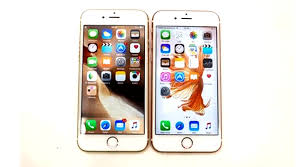iphone: (74, 5, 152, 156), (148, 6, 222, 156)
iphone6: (71, 5, 155, 155), (150, 4, 224, 154)
